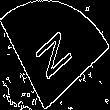N_SW: (32, 24, 78, 86)
